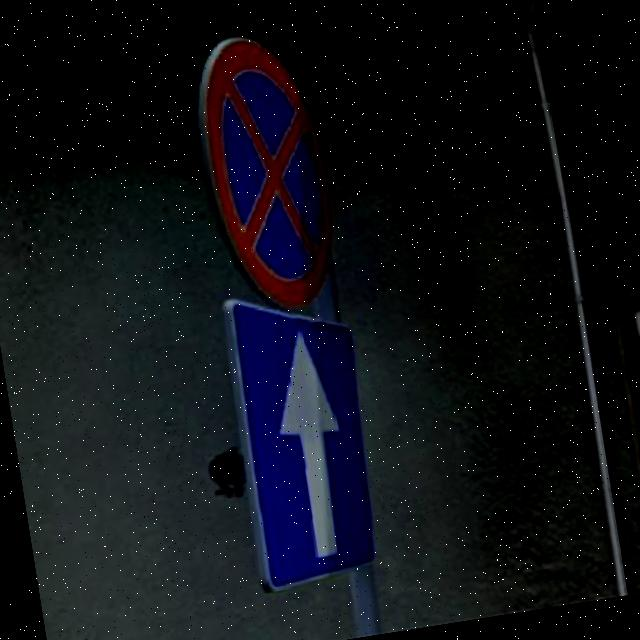Zakaz zatrzymywania sie: (180, 22, 350, 324)
